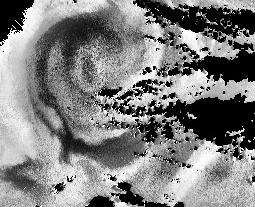AE: (15, 8, 149, 127)
